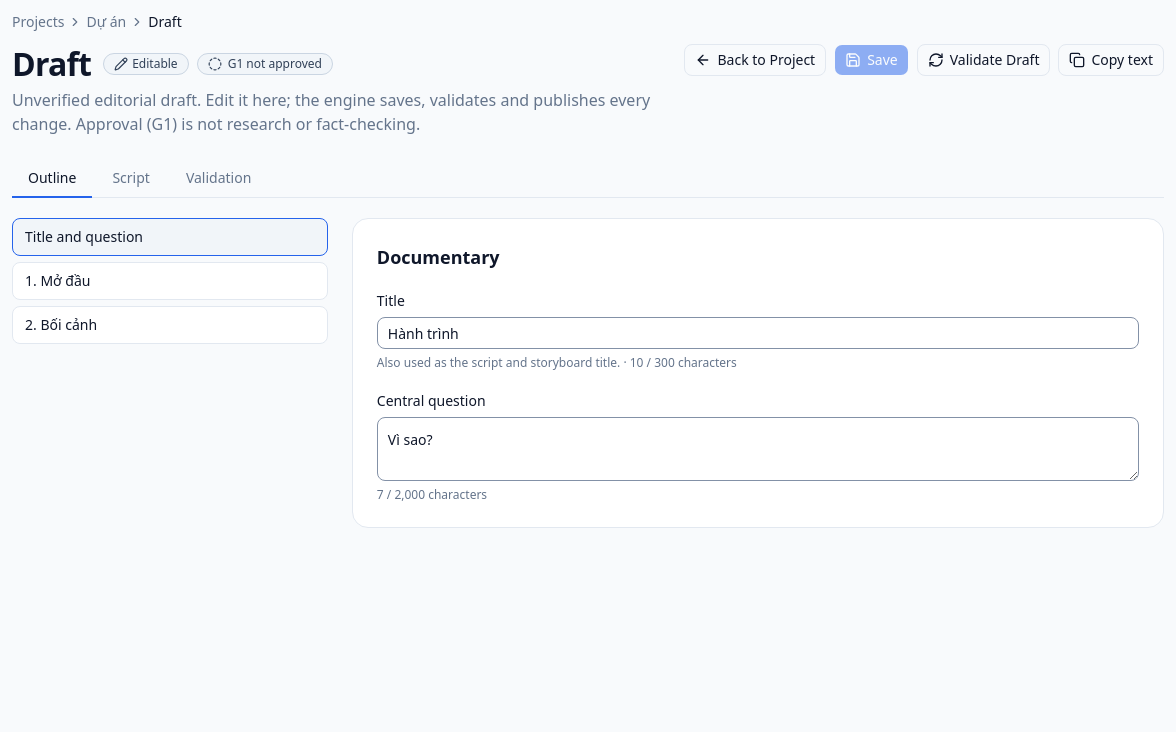
Test: draft editor › lists the engine's reasons when it rejects an edit
The image size is (1176, 732).
Type " x" into the field labelled "Title".
click(758, 333); type(" x")  # box [377,317,1139,349]
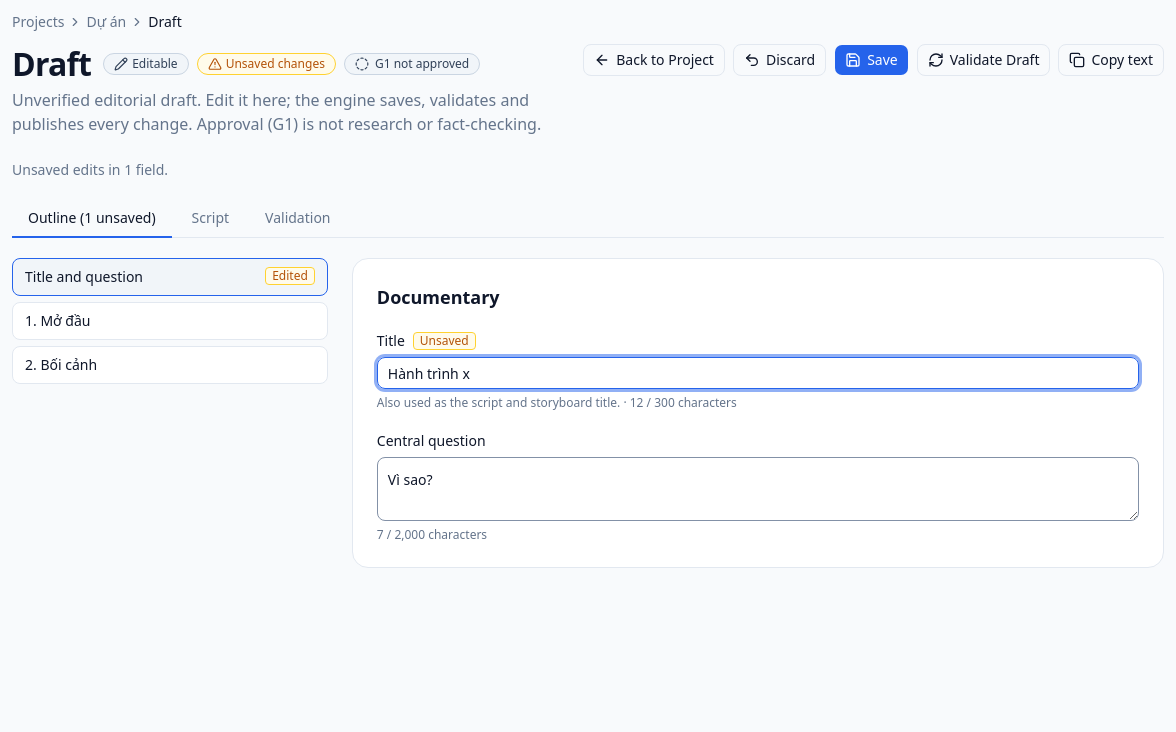
Click the button "Save".
click(872, 60)  # box [834,44,909,76]
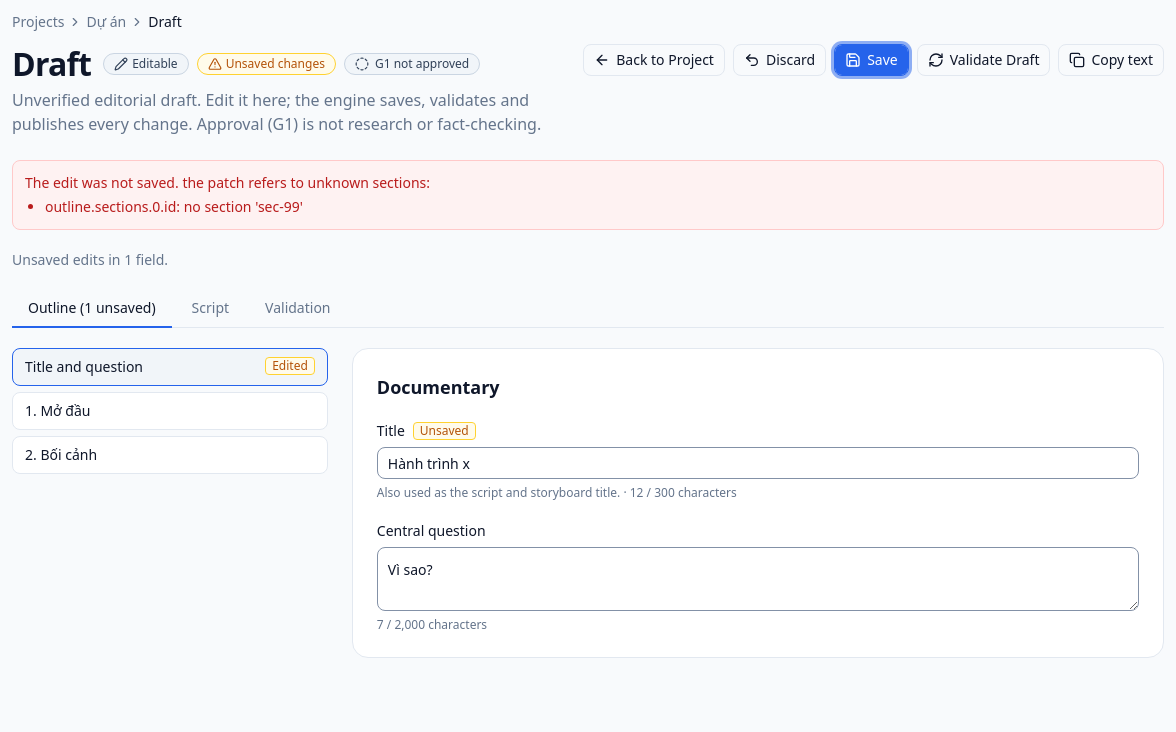
Expected: the list item "outline.sections.0.id: no section 'sec-99'" is shown, [45,197,303,216]
